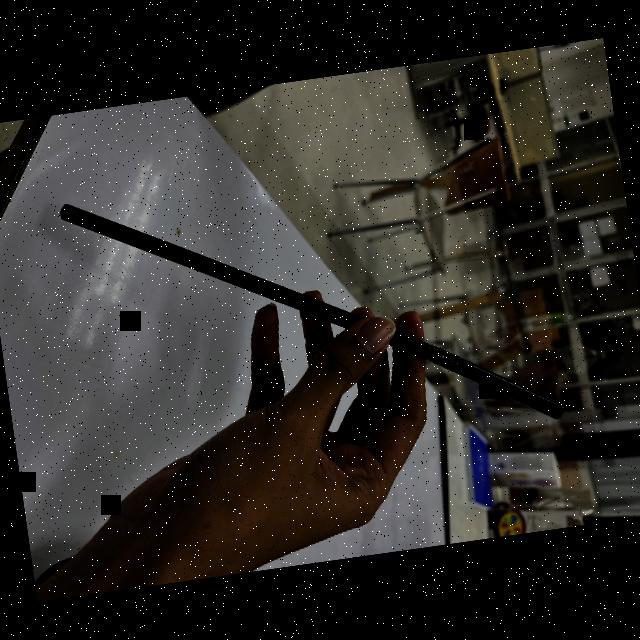straw: (51, 136, 571, 494)
